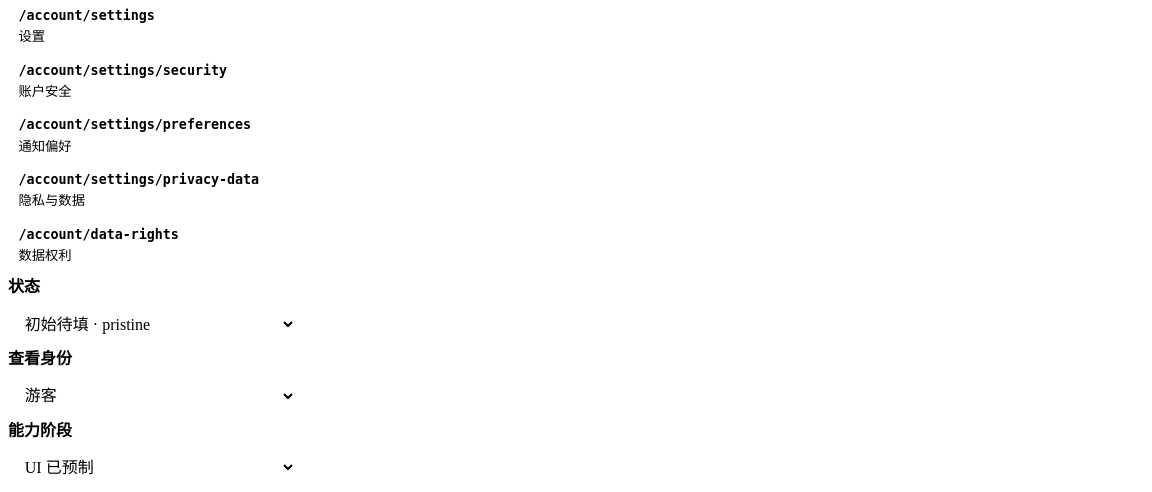
Test case: Web UI Lab interactions › replaces the normal body with formal Status for unauthorized
(page scrolled)
Select "登录已失效 · unauthorized" in the dropdown labelled "状态" at [152, 324], box [8,303,296,345]
(page scrolled)
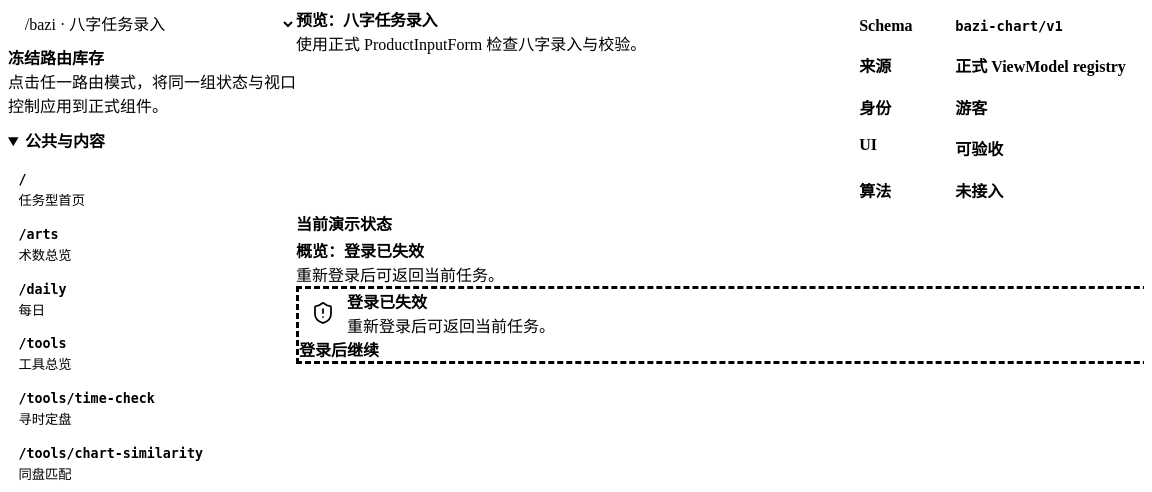
Expected: the heading "登录已失效" is shown, [347,294,427,311]
